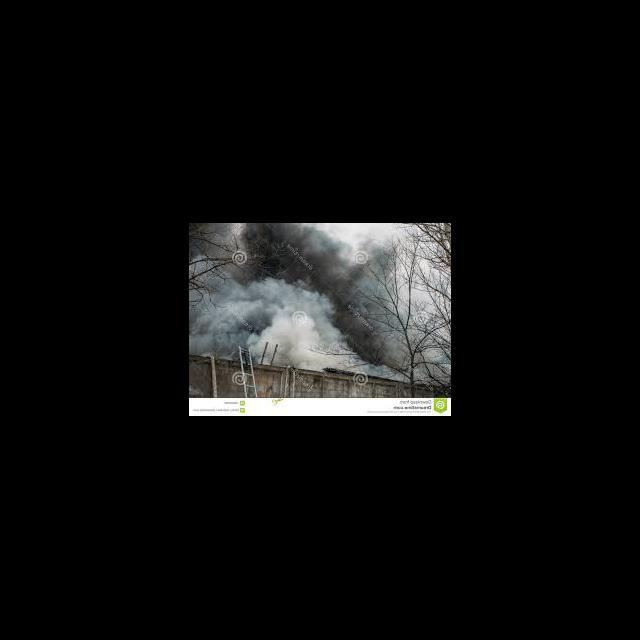Smoke: (190, 224, 397, 380)
